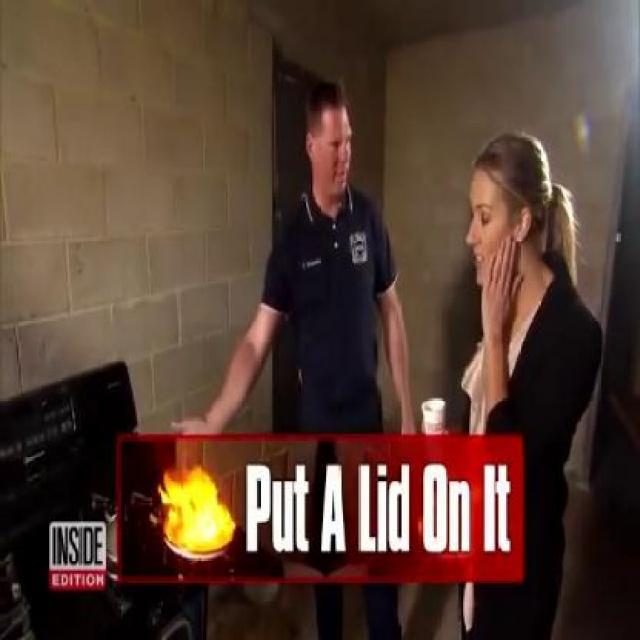fire: (160, 443, 238, 559)
